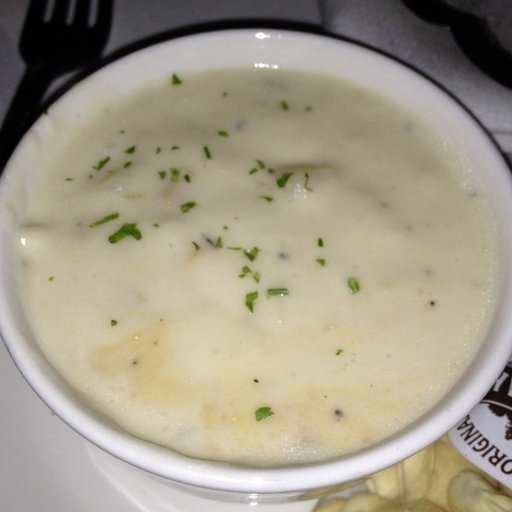soup: (13, 45, 478, 472)
